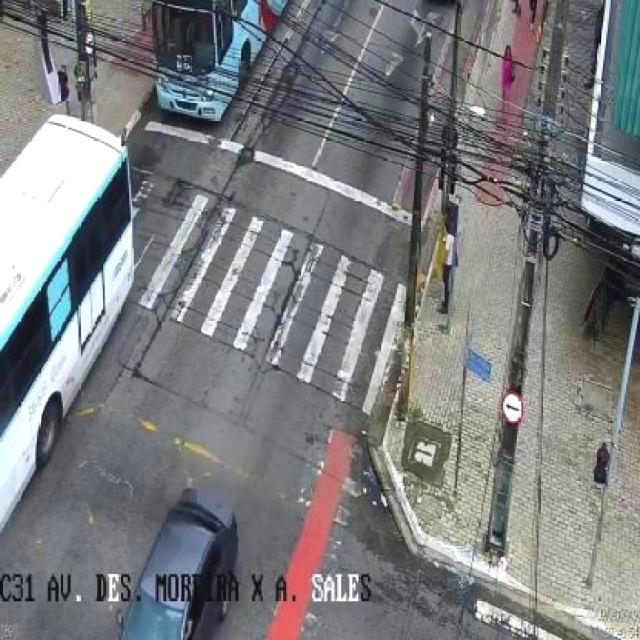Bus: (0, 104, 141, 539), (134, 0, 280, 114)
Car: (110, 484, 242, 634)
